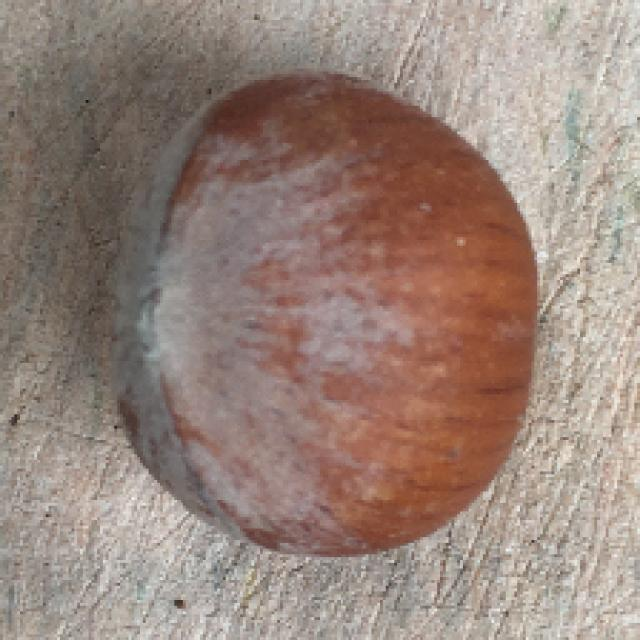qualityHazelnut: (110, 61, 534, 561)
